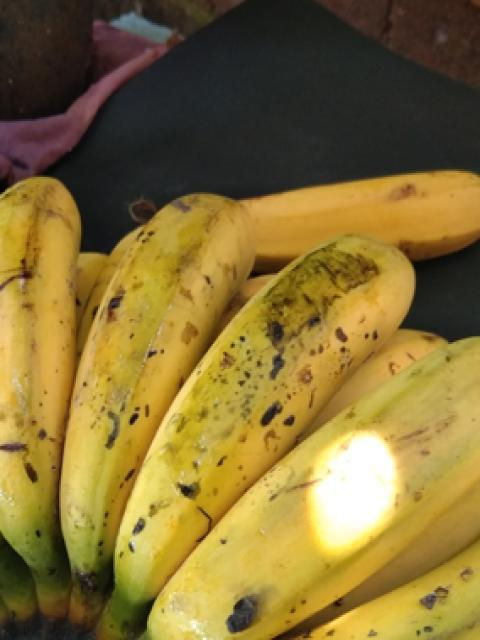freshripe: (254, 145, 479, 266)
ripe: (93, 244, 412, 602), (148, 351, 475, 632), (52, 188, 264, 591), (0, 168, 106, 562)
